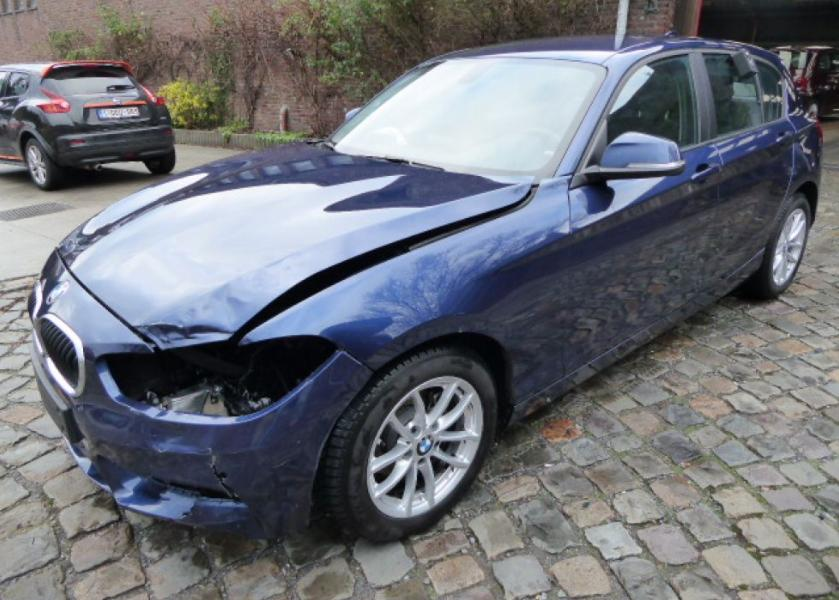Back-door: (694, 47, 794, 292)
Back-wheel: (728, 192, 811, 300)
Back-window: (702, 53, 762, 136), (755, 60, 783, 122)
Fender: (238, 175, 573, 406)
Front-bumper: (27, 247, 376, 539)
Front-door: (562, 47, 723, 378)
Front-wheel: (311, 338, 499, 545)
Grille: (27, 281, 86, 397)
Hood: (58, 139, 535, 349)
License-plate: (30, 344, 76, 442)
Mirror: (569, 117, 686, 190), (345, 107, 362, 122)
Quarter-panel: (762, 101, 823, 248)
Rocker-panel: (498, 249, 763, 429)
Roof: (417, 30, 740, 66)
Tail-light: (812, 116, 823, 145)
Windshield: (321, 58, 608, 185)
